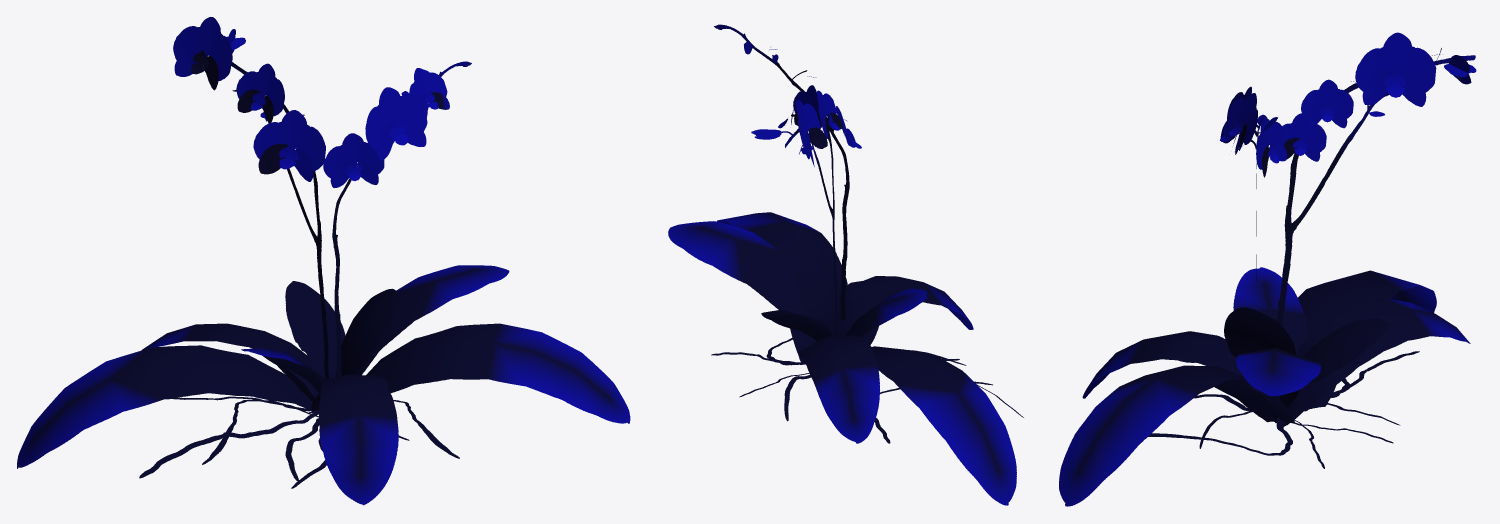
Rendered from SM_Foliage_OrchidA_01.fbx.
The picture shows the model from 3 angles, left to right: view 1: azimuth 30°, elevation 25°; view 2: azimuth 150°, elevation 25°; view 3: azimuth 270°, elevation 25°; orthographic projection. The views are drawn at different scales.
Parts seen in each view (by area): view 1: SM_Foliage_OrchidA_01; view 2: SM_Foliage_OrchidA_01; view 3: SM_Foliage_OrchidA_01.
Boxes of the visible parts, x1=… form: SM_Foliage_OrchidA_01: x1=17, y1=17, x2=630, y2=505; SM_Foliage_OrchidA_01: x1=668, y1=24, x2=1023, y2=505; SM_Foliage_OrchidA_01: x1=1059, y1=32, x2=1476, y2=506.
Bounding box in the file's own units: 129 × 95.66 × 106.
